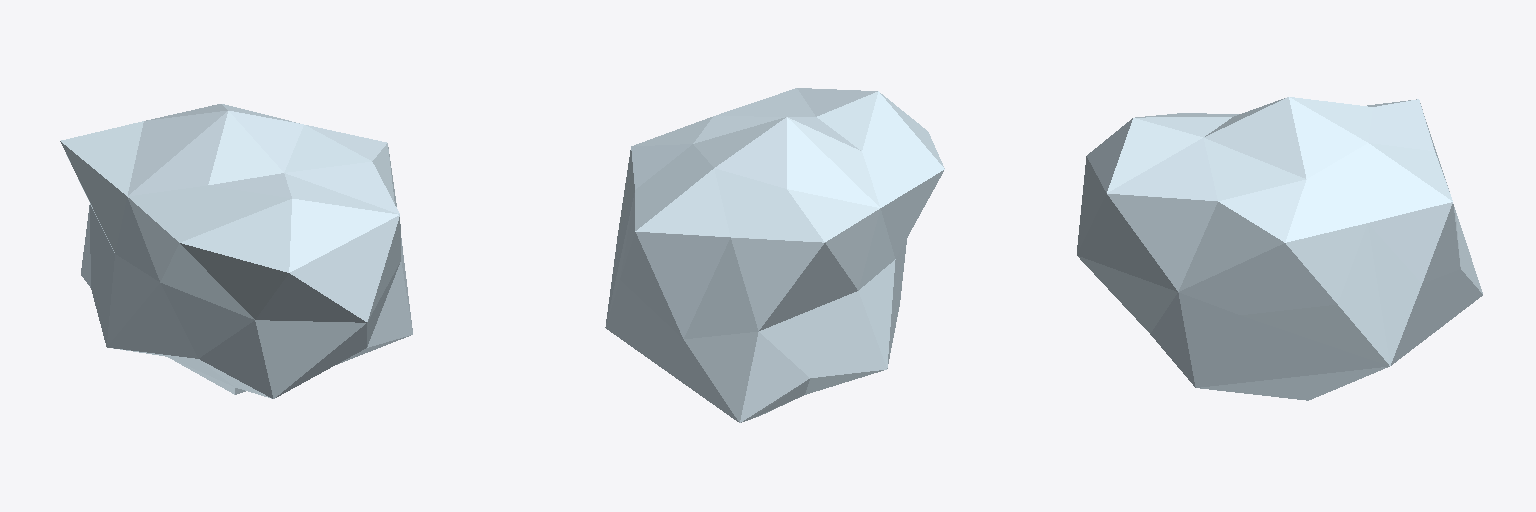
The model's file is island_cloud_1.obj.
The picture shows the model from 3 angles: view 1: azimuth 30°, elevation 25°; view 2: azimuth 150°, elevation 25°; view 3: azimuth 270°, elevation 25°; orthographic projection.
Visible parts, largest first — view 1: IcosphereFBXASC046001 island; view 2: IcosphereFBXASC046001 island; view 3: IcosphereFBXASC046001 island.
Boxes of the visible parts, x1=… form: IcosphereFBXASC046001 island: x1=60, y1=104, x2=412, y2=398; IcosphereFBXASC046001 island: x1=605, y1=88, x2=944, y2=422; IcosphereFBXASC046001 island: x1=1077, y1=97, x2=1482, y2=400.
Bounding box in the file's own units: 2.19 × 2.31 × 2.88.